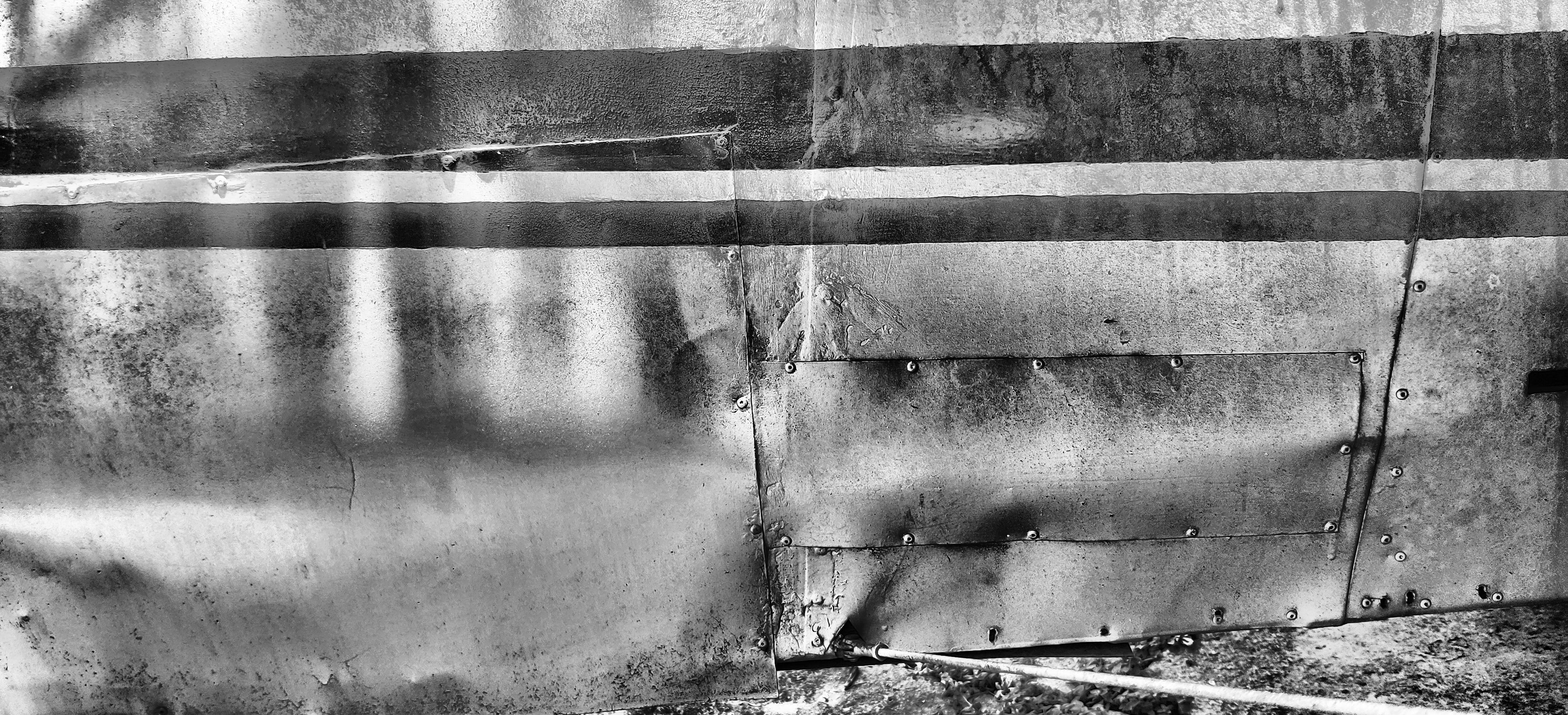crack: (776, 605, 785, 637)
dent: (641, 245, 752, 441), (1309, 426, 1390, 456)
missing-head: (985, 627, 1000, 643), (1476, 584, 1490, 599), (1406, 590, 1417, 605), (1100, 626, 1109, 637), (1380, 598, 1388, 608)
scratch: (777, 293, 805, 332), (786, 329, 804, 361), (883, 245, 896, 284), (349, 458, 356, 509)
